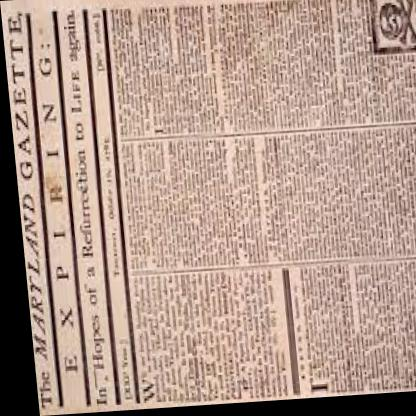Paper: (1, 0, 416, 414)
